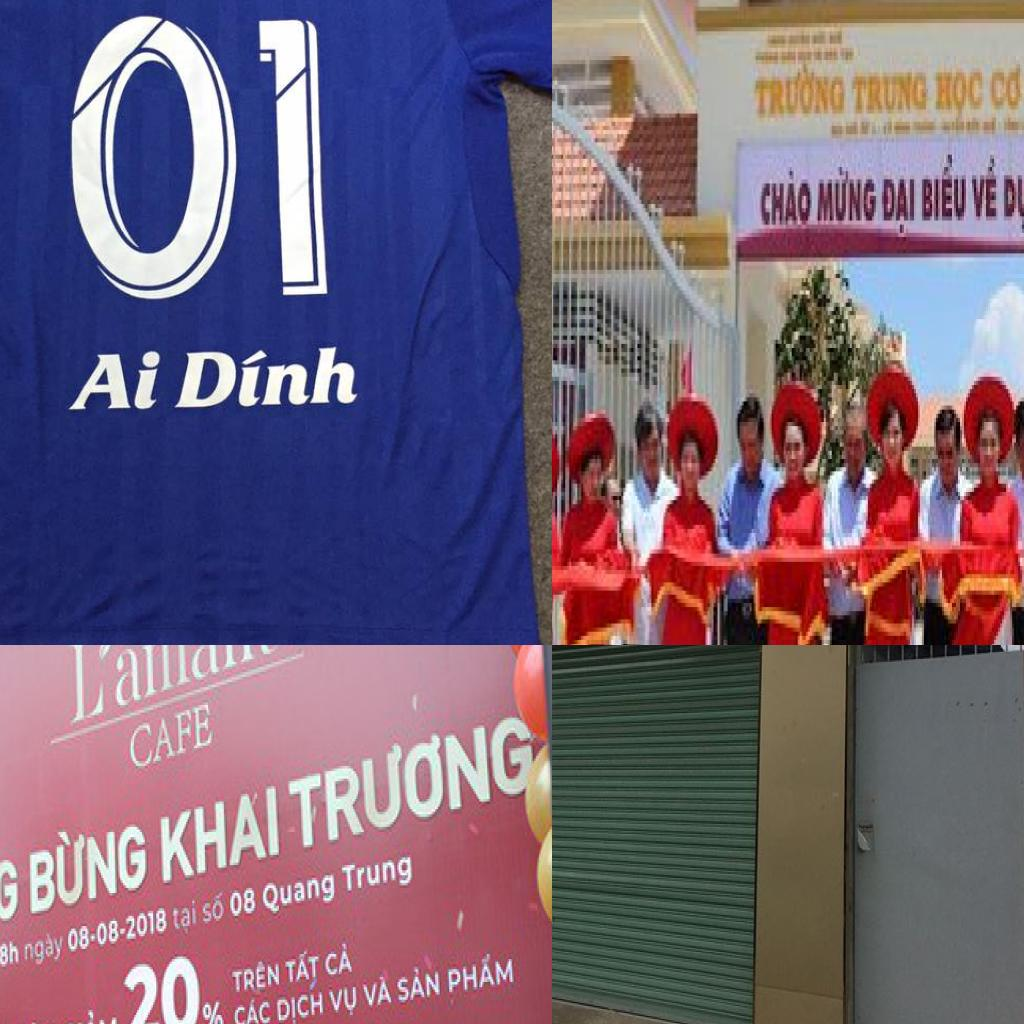text: (64, 14, 240, 300), (284, 702, 537, 860), (255, 14, 332, 300), (21, 807, 148, 926), (154, 781, 280, 891), (113, 645, 275, 715), (110, 943, 203, 1024), (129, 695, 216, 779), (754, 60, 848, 126), (70, 348, 166, 412), (262, 860, 339, 924), (338, 847, 414, 906), (58, 645, 108, 732), (442, 942, 518, 998), (816, 163, 878, 229), (758, 163, 814, 233), (850, 68, 928, 118), (920, 150, 968, 224), (932, 64, 986, 118), (882, 171, 918, 241), (232, 954, 284, 1000), (968, 150, 1000, 224), (396, 962, 441, 1007), (22, 926, 66, 972), (988, 60, 1024, 114), (274, 989, 327, 1024), (1002, 159, 1024, 241), (126, 906, 169, 946), (284, 946, 322, 990), (169, 898, 200, 944), (356, 974, 392, 1012), (325, 941, 358, 982), (58, 1002, 119, 1024), (328, 984, 361, 1024), (200, 886, 229, 931), (233, 994, 274, 1024), (230, 883, 259, 923), (66, 921, 92, 959), (94, 916, 122, 951), (0, 936, 20, 976), (202, 994, 227, 1024)
